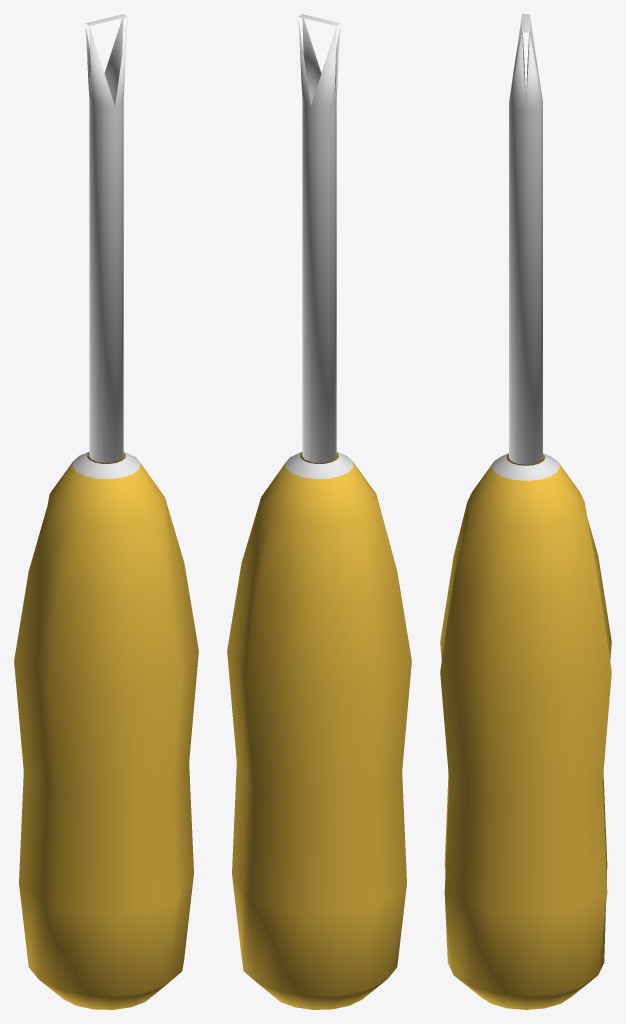
File: Obeng.fbx
The picture shows the model from 3 angles, left to right: view 1: azimuth 30°, elevation 25°; view 2: azimuth 150°, elevation 25°; view 3: azimuth 270°, elevation 25°; orthographic projection.
Visible parts, largest first — view 1: Obeng; view 2: Obeng; view 3: Obeng.
Boxes of the visible parts, x1,y1,x2,y2 form: Obeng: [14, 14, 198, 1009]; Obeng: [227, 14, 411, 1009]; Obeng: [440, 14, 611, 1009].
Bounding box in the file's own units: 0.0351 × 0.218 × 0.0351.
